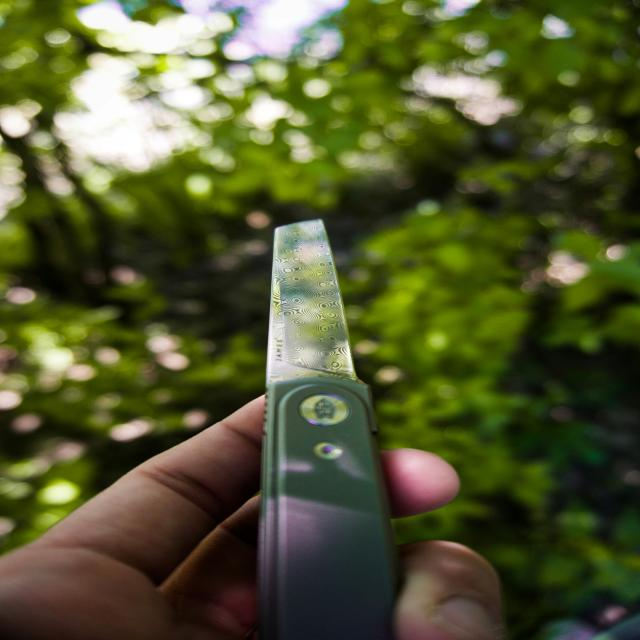knife: (261, 218, 405, 639)
